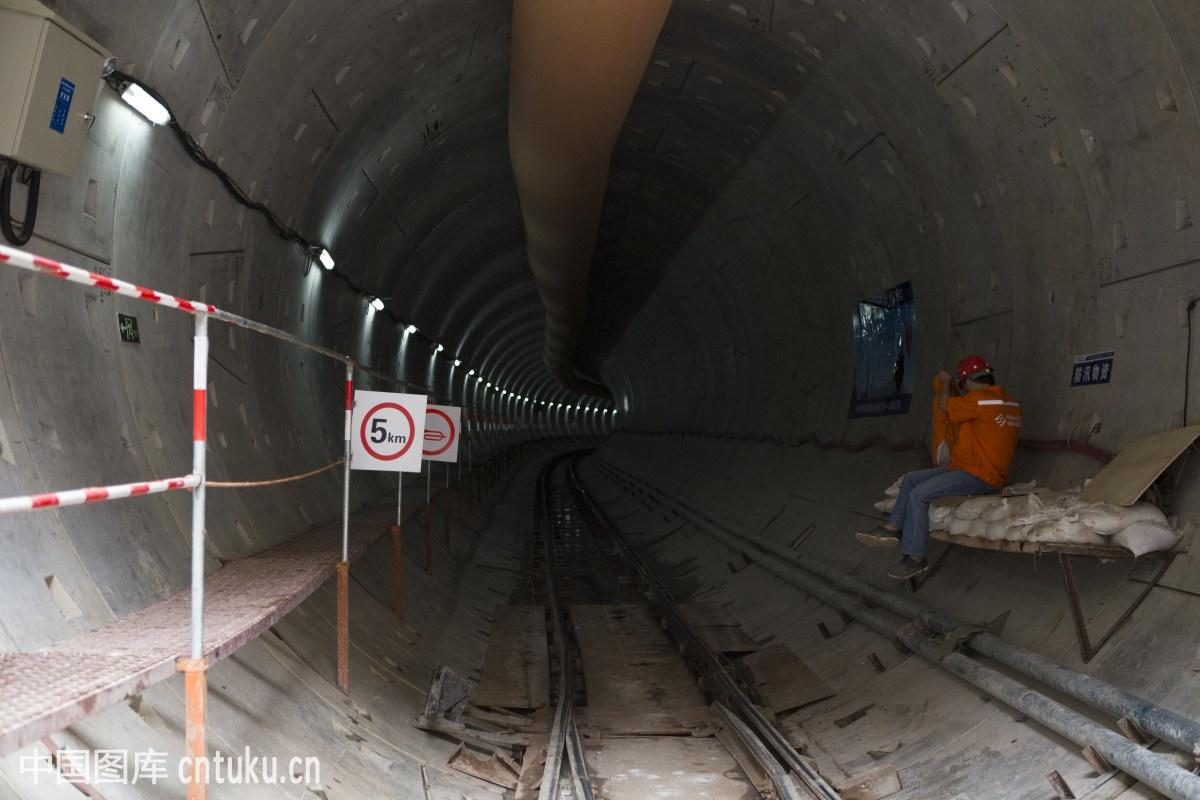Helmet: (955, 354, 996, 393)
